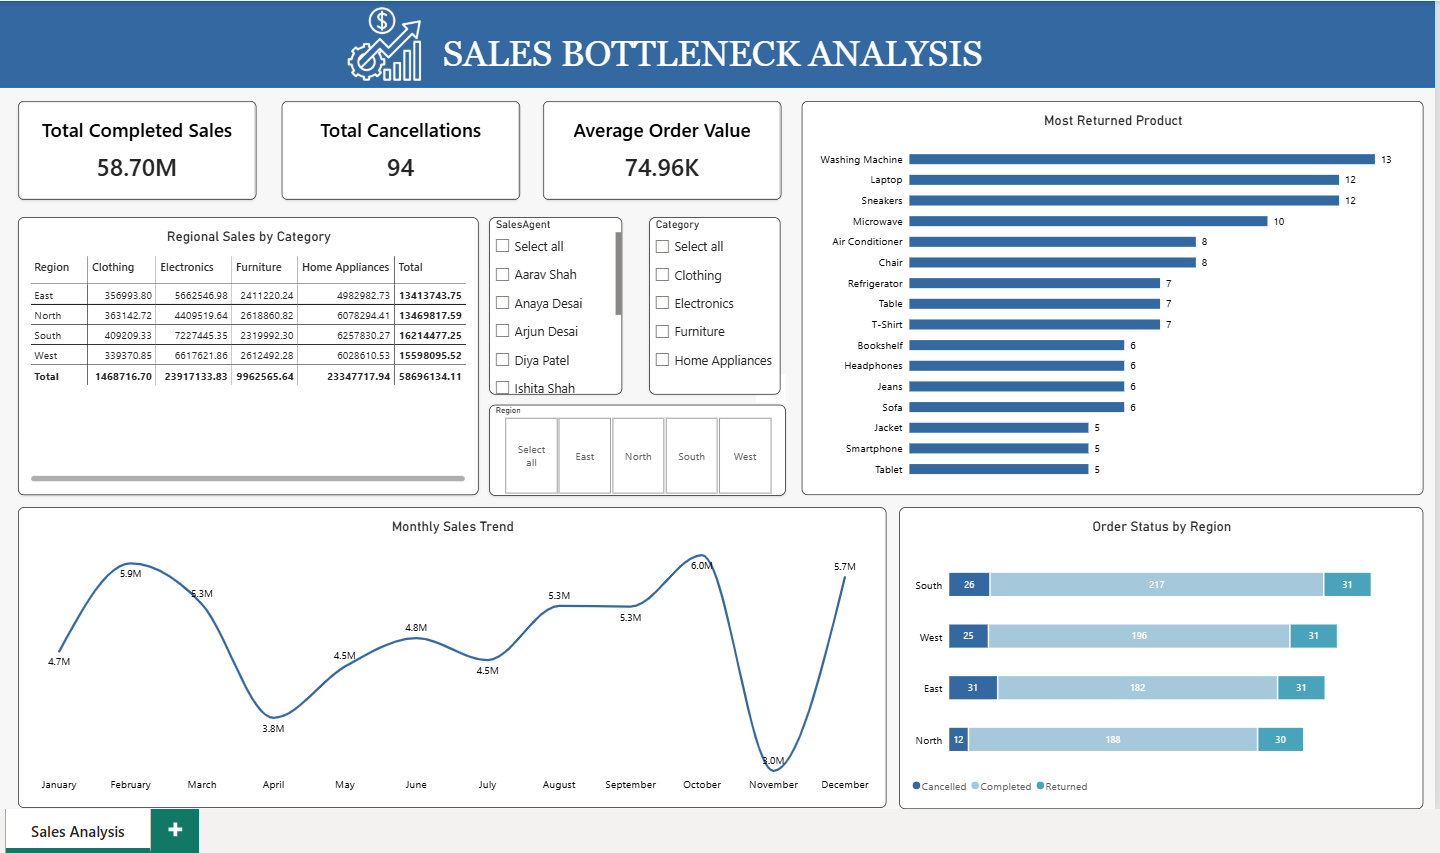

Layout of this report page (visuals, bound fields, positions):
{"tool":"powerbi","page":{"name":"Page 1","canvas":[1920,1080],"ordinal":0},"visuals":[{"type":"shape","box":[0,0,1920.1,115.8],"z":0},{"type":"cardVisual","fields":{"Data":["Measure.Total Completed Sales"]},"box":[27.1,133.9,318.5,132.1],"z":1000},{"type":"cardVisual","fields":{"Data":["Measure.Total Cancellations"]},"box":[378.2,133.9,318.5,132.1],"z":2000},{"type":"cardVisual","fields":{"Data":["Measure.Average Order Value"]},"box":[727.5,133.9,318.5,132.1],"z":3000},{"type":"clusteredBarChart","title":"Most Returned Product","fields":{"Category":["RegionalSales2025.ProductName"],"Y":["Measure.Returned Orders"]},"box":[1073.1,133.9,830.6,526.6],"z":4000},{"type":"pivotTable","title":"Regional Sales by Category","fields":{"Columns":["RegionalSales2025.Category"],"Rows":["RegionalSales2025.Region"],"Values":["Measure.Total Completed Sales"]},"box":[27.1,289.5,615.3,371],"z":5000},{"type":"barChart","title":"Order Status by Region","fields":{"Category":["RegionalSales2025.Region"],"Y":["CountNonNull(RegionalSales2025.OrderID)"],"Series":["RegionalSales2025.OrderStatus"]},"box":[1203.4,676.8,700.3,403.6],"z":6000},{"type":"lineChart","title":"Monthly Sales Trend","fields":{"Category":["RegionalSales2025.Date.Variation.Date Hierarchy.Year","RegionalSales2025.Date.Variation.Date Hierarchy.Quarter","RegionalSales2025.Date.Variation.Date Hierarchy.Month","RegionalSales2025.Date.Variation.Date Hierarchy.Day"],"Y":["Measure.Total Completed Sales"]},"box":[27.1,676.8,1160,401.7],"z":7000},{"type":"slicer","fields":{"Values":["RegionalSales2025.Region"]},"box":[656.9,539.3,396.3,121.2],"z":8000},{"type":"slicer","fields":{"Values":["RegionalSales2025.Category"]},"box":[870.4,289.5,175.5,237.1],"z":9000},{"type":"slicer","fields":{"Values":["RegionalSales2025.SalesAgent"]},"box":[656.9,289.5,177.3,237.1],"z":10000},{"type":"textbox","box":[591.8,43.4,738.3,72.4],"z":10001},{"type":"image","box":[452.4,7.2,126.7,101.3],"z":10002}]}

Visuals, with their boxes in screenshot pixels (x1, y1, x2, y2):
shape: rect(11, 0, 1431, 86)
cardVisual - Measure.Total Completed Sales: rect(31, 99, 267, 197)
cardVisual - Measure.Total Cancellations: rect(291, 99, 527, 197)
cardVisual - Measure.Average Order Value: rect(549, 99, 785, 197)
"Most Returned Product" clusteredBarChart: rect(805, 99, 1419, 489)
"Regional Sales by Category" pivotTable: rect(31, 214, 486, 489)
"Order Status by Region" barChart: rect(901, 501, 1419, 799)
"Monthly Sales Trend" lineChart: rect(31, 501, 889, 798)
slicer - RegionalSales2025.Region: rect(497, 399, 790, 489)
slicer - RegionalSales2025.Category: rect(655, 214, 785, 389)
slicer - RegionalSales2025.SalesAgent: rect(497, 214, 628, 389)
textbox: rect(449, 32, 995, 86)
image: rect(346, 5, 440, 80)
